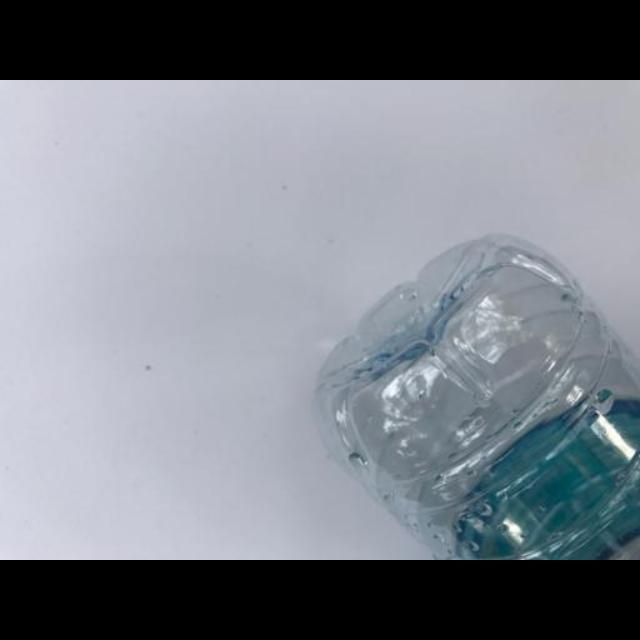garrafa plástica: (310, 226, 640, 560)
